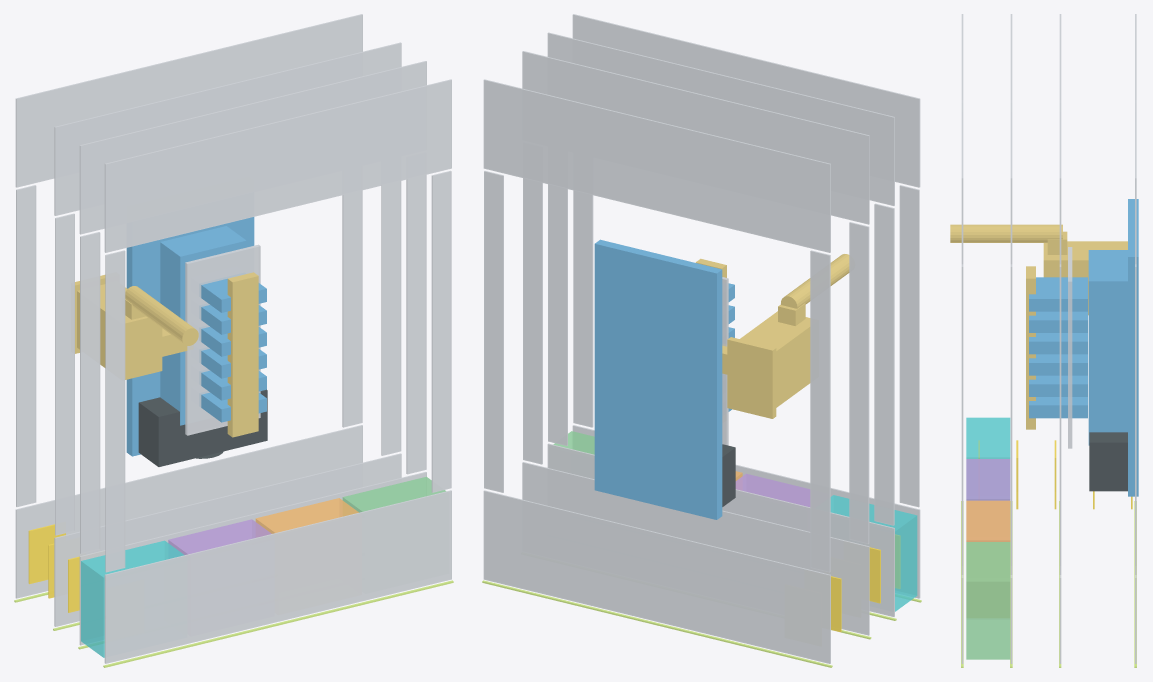
File: engine_unit2.glb
The picture shows the model from 3 angles, left to right: view 1: azimuth 30°, elevation 25°; view 2: azimuth 150°, elevation 25°; view 3: azimuth 270°, elevation 25°; orthographic projection. The views are drawn at different scales.
Parts seen in each view (by area): view 1: UNIT2_LEVEL_4F_EL_23.300_NorthSlab, UNIT2_LEVEL_4F_EL_23.300_SouthSlab, UNIT2_LEVEL_1F_EL_5.600_NorthSlab, UNIT2_LEVEL_1F_EL_5.600_SouthSlab, UNIT2_LEVEL_2F_EL_13.300_NorthSlab, UNIT2_LEVEL_3F_EL_18.300_NorthSlab, UNIT2_LEVEL_2F_EL_13.300_SouthSlab, UNIT2_LEVEL_4F_EL_23.300_HallWalkway_L, UNIT2_LEVEL_4F_EL_23.300_HallWalkway_R, UNIT2_LEVEL_1F_EL_5.600_HallWalkway_L, UNIT2_LEVEL_3F_EL_18.300_HallWalkway_L, UNIT2_LEVEL_2F_EL_13.300_HallWalkway_L (+24 smaller); view 2: UNIT2_ENGINE_FoundationPlatform, UNIT2_LEVEL_1F_EL_5.600_NorthSlab, UNIT2_LEVEL_1F_EL_5.600_SouthSlab, UNIT2_LEVEL_2F_EL_13.300_NorthSlab, UNIT2_LEVEL_2F_EL_13.300_SouthSlab, UNIT2_LEVEL_4F_EL_23.300_NorthSlab, UNIT2_LEVEL_3F_EL_18.300_NorthSlab, UNIT2_LEVEL_1F_EL_5.600_HallWalkway_L, UNIT2_LEVEL_3F_EL_18.300_HallWalkway_L, UNIT2_LEVEL_2F_EL_13.300_HallWalkway_L, UNIT2_LEVEL_4F_EL_23.300_HallWalkway_L, UNIT2_LEVEL_1F_EL_5.600_HallWalkway_R (+14 smaller); view 3: UNIT2_ENGINE_Crankcase, UNIT2_3F_SEPARATE_SPACE, UNIT2_ENGINE_FoundationPlatform, UNIT2_GENERATOR_DoorSide, UNIT2_SCR_ExhaustStack, UNIT2_ENGINE_Cylinder_6, UNIT2_3F_IC_MAINT, UNIT2_3F_EWS_ROOM, UNIT2_3F_WORKSHOP, UNIT2_SCR_Reactor, UNIT2_ENGINE_Cylinder_1, UNIT2_ENGINE_Cylinder_2 (+17 smaller).
Boxes of the visible parts, bbox=[...] form: UNIT2_LEVEL_4F_EL_23.300_NorthSlab: bbox=[104, 79, 451, 252]; UNIT2_LEVEL_4F_EL_23.300_SouthSlab: bbox=[104, 490, 451, 663]; UNIT2_LEVEL_1F_EL_5.600_NorthSlab: bbox=[15, 14, 362, 187]; UNIT2_LEVEL_1F_EL_5.600_SouthSlab: bbox=[15, 425, 362, 598]; UNIT2_LEVEL_2F_EL_13.300_NorthSlab: bbox=[54, 42, 401, 215]; UNIT2_LEVEL_3F_EL_18.300_NorthSlab: bbox=[79, 61, 426, 234]; UNIT2_LEVEL_2F_EL_13.300_SouthSlab: bbox=[54, 453, 401, 626]; UNIT2_LEVEL_4F_EL_23.300_HallWalkway_L: bbox=[105, 250, 125, 572]; UNIT2_LEVEL_4F_EL_23.300_HallWalkway_R: bbox=[431, 170, 451, 492]; UNIT2_LEVEL_1F_EL_5.600_HallWalkway_L: bbox=[16, 185, 36, 506]; UNIT2_LEVEL_3F_EL_18.300_HallWalkway_L: bbox=[80, 232, 100, 553]; UNIT2_LEVEL_2F_EL_13.300_HallWalkway_L: bbox=[55, 213, 74, 535]; UNIT2_ENGINE_FoundationPlatform: bbox=[594, 239, 722, 519]; UNIT2_LEVEL_1F_EL_5.600_NorthSlab: bbox=[483, 79, 830, 252]; UNIT2_LEVEL_1F_EL_5.600_SouthSlab: bbox=[483, 490, 830, 663]; UNIT2_LEVEL_2F_EL_13.300_NorthSlab: bbox=[522, 51, 869, 224]; UNIT2_LEVEL_2F_EL_13.300_SouthSlab: bbox=[522, 462, 869, 635]; UNIT2_LEVEL_4F_EL_23.300_NorthSlab: bbox=[572, 14, 920, 187]; UNIT2_LEVEL_3F_EL_18.300_NorthSlab: bbox=[547, 32, 894, 205]; UNIT2_LEVEL_1F_EL_5.600_HallWalkway_L: bbox=[810, 250, 830, 572]; UNIT2_LEVEL_3F_EL_18.300_HallWalkway_L: bbox=[874, 203, 894, 525]; UNIT2_LEVEL_2F_EL_13.300_HallWalkway_L: bbox=[849, 222, 869, 544]; UNIT2_LEVEL_4F_EL_23.300_HallWalkway_L: bbox=[899, 185, 919, 507]; UNIT2_LEVEL_1F_EL_5.600_HallWalkway_R: bbox=[484, 171, 503, 492]; UNIT2_ENGINE_Crankcase: bbox=[1088, 250, 1127, 445]; UNIT2_3F_SEPARATE_SPACE: bbox=[966, 542, 1010, 659]; UNIT2_ENGINE_FoundationPlatform: bbox=[1128, 199, 1138, 496]; UNIT2_GENERATOR_DoorSide: bbox=[1089, 432, 1127, 491]; UNIT2_SCR_ExhaustStack: bbox=[950, 224, 1062, 242]; UNIT2_ENGINE_Cylinder_6: bbox=[1029, 277, 1087, 311]; UNIT2_3F_IC_MAINT: bbox=[966, 459, 1010, 500]; UNIT2_3F_EWS_ROOM: bbox=[966, 417, 1010, 458]; UNIT2_3F_WORKSHOP: bbox=[966, 500, 1010, 541]; UNIT2_SCR_Reactor: bbox=[1043, 241, 1127, 315]; UNIT2_ENGINE_Cylinder_1: bbox=[1029, 397, 1087, 418]; UNIT2_ENGINE_Cylinder_2: bbox=[1029, 375, 1087, 396].
Size of the model in its own units: 40 by 55.08 by 19.25.
